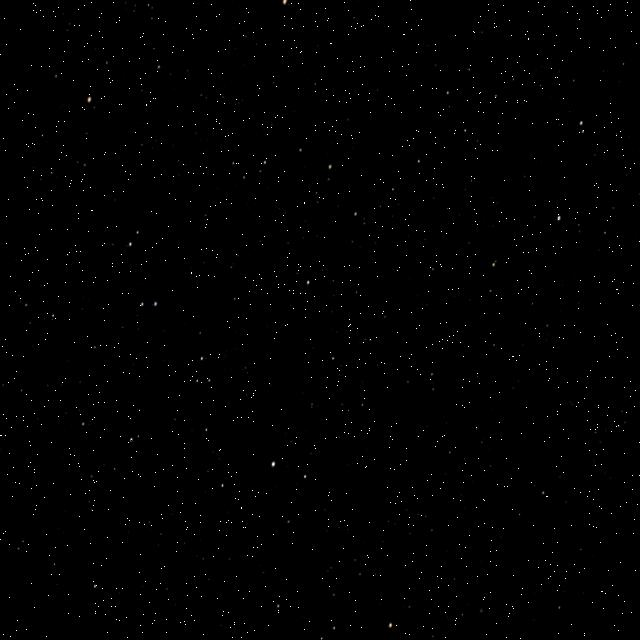Fornax: (286, 276, 352, 368)
